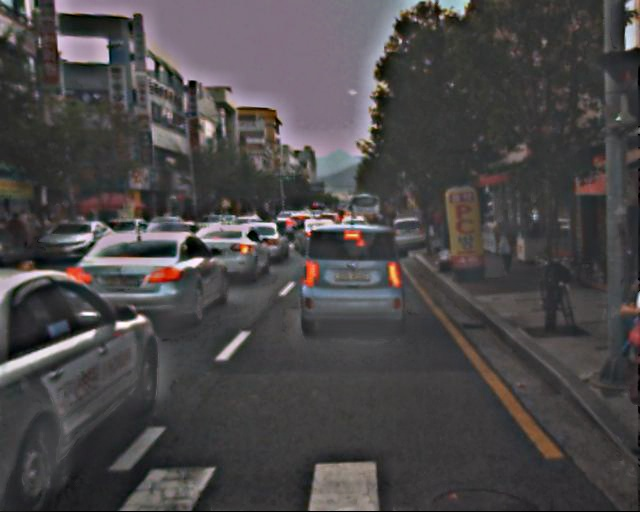person: (491, 206, 522, 281)
